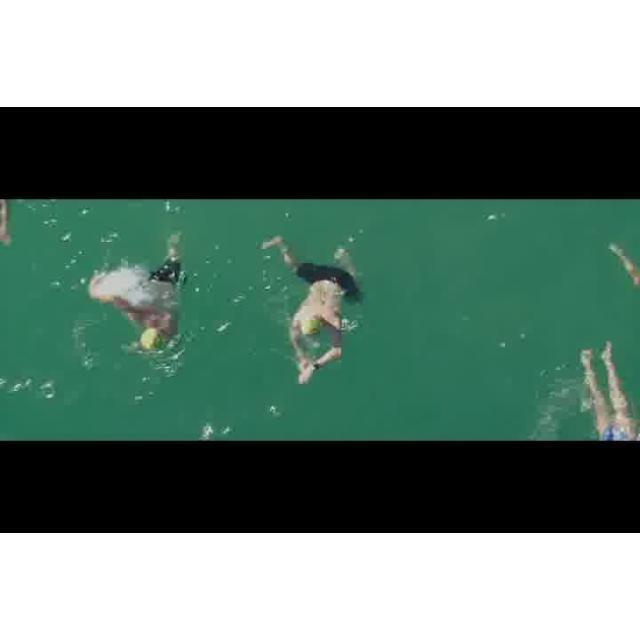human: (263, 229, 364, 388), (90, 242, 188, 356), (579, 346, 639, 442)
